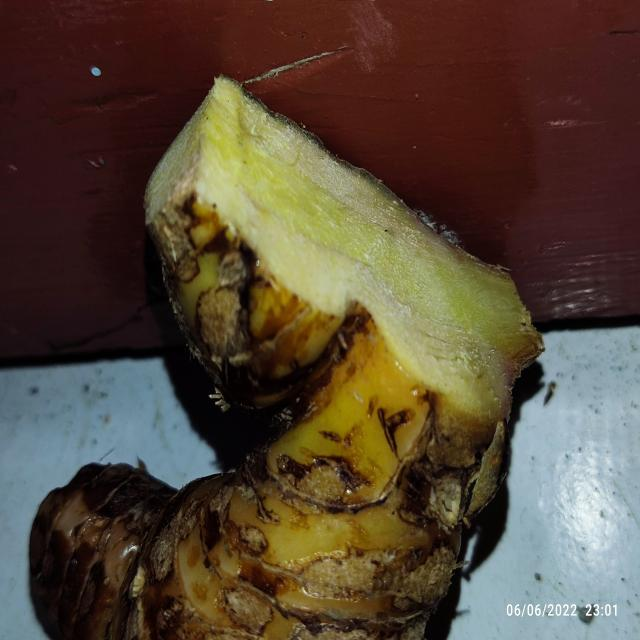ginger: (33, 84, 527, 640)
